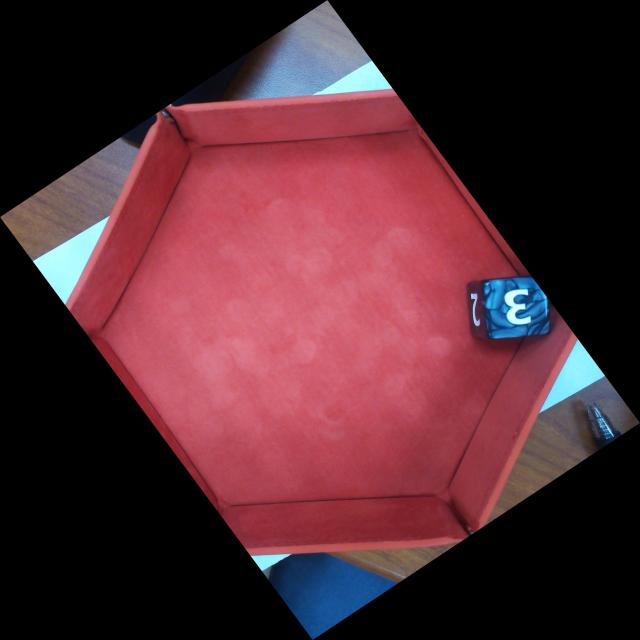dice: (481, 275, 554, 342)
